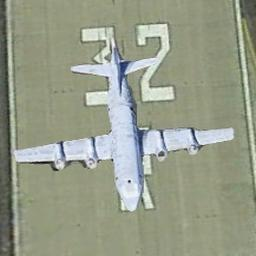Airplane: (12, 23, 234, 212)
